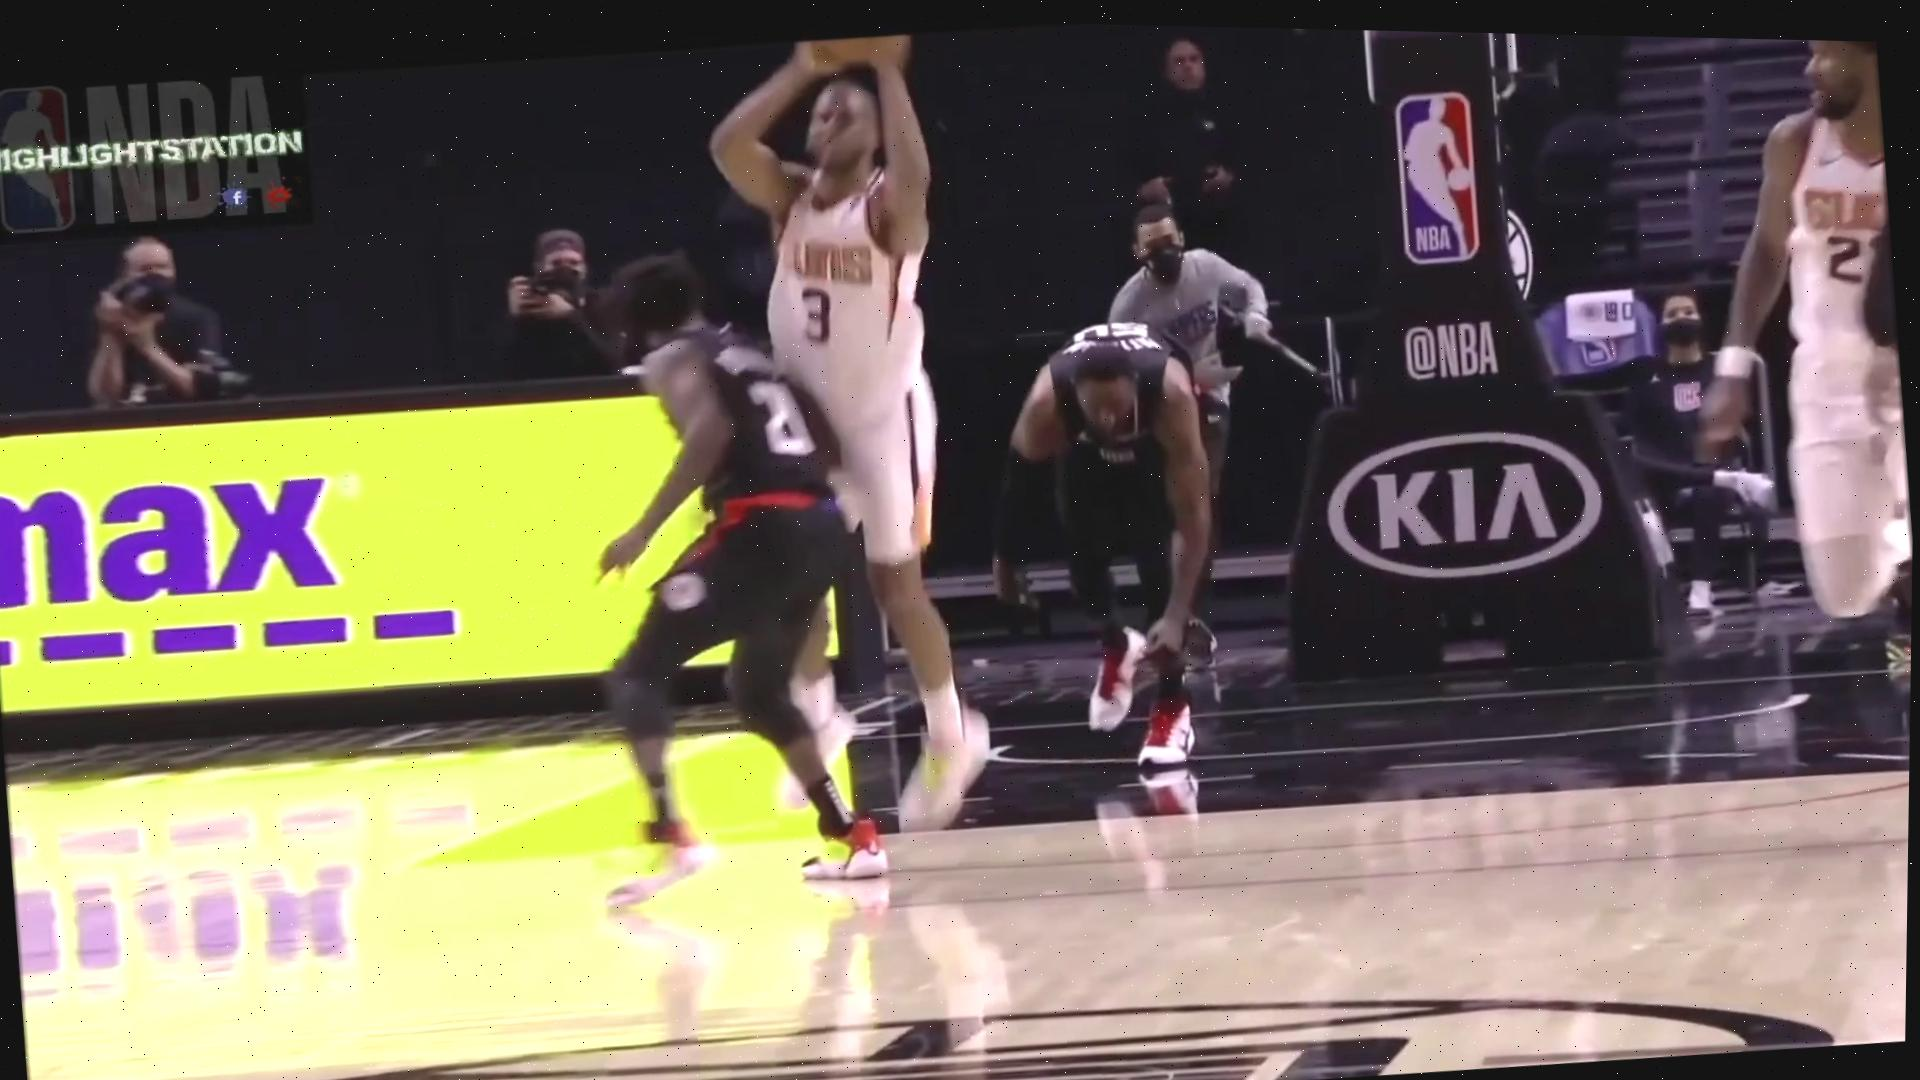no_foul: (518, 42, 1088, 922)
